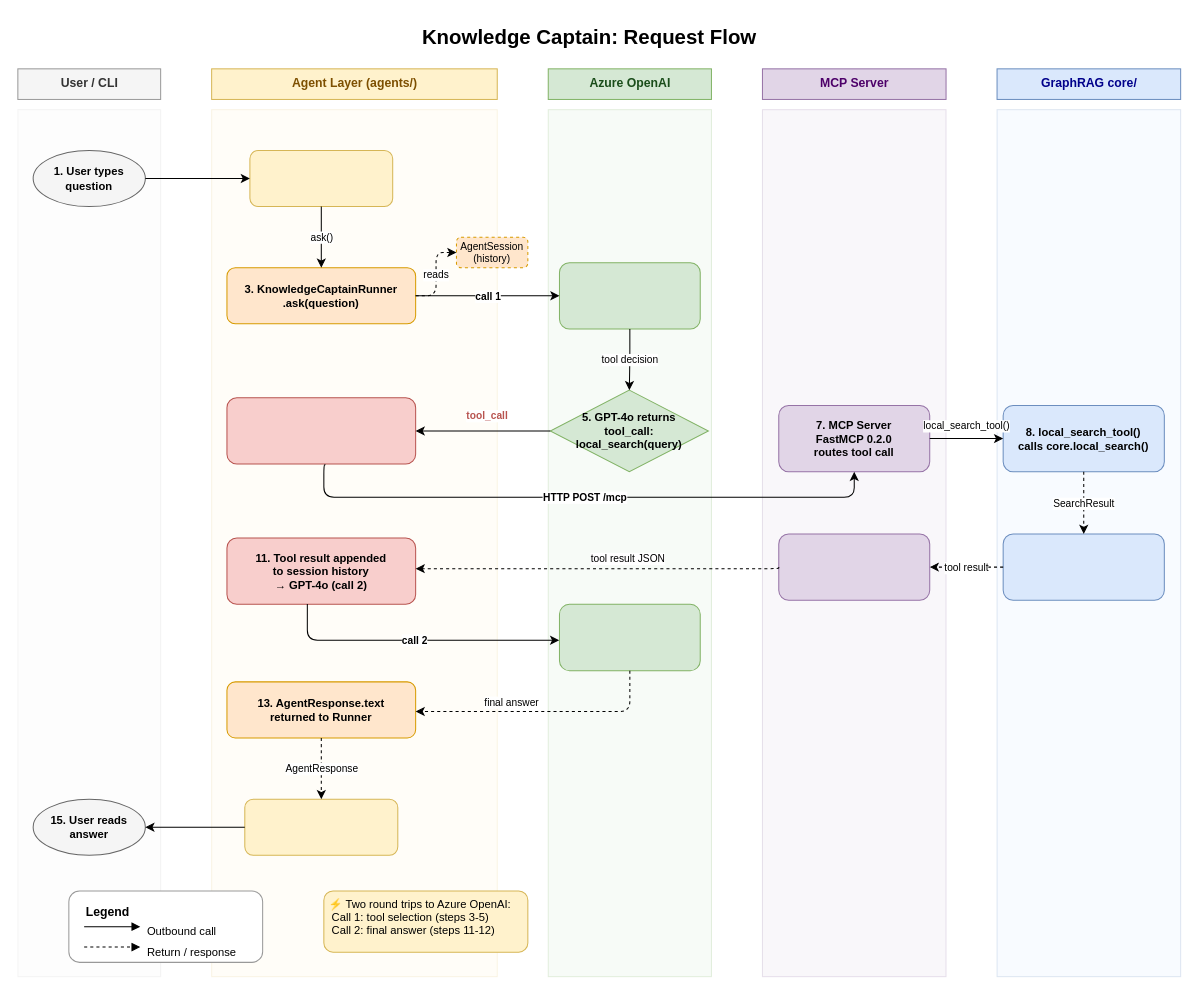
This 1199x995 diagram has some shape labels left out. The shapes that lost their labels are listed below. From the top down, each one's centre as x and y in pixels, then its label:
At (x=321, y=178): "2. run_agent.py CLI (Rich)".
At (x=629, y=295): "4. [system prompt + history + question] → GPT-4o (call 1)".
At (x=321, y=430): "6. MCPStreamableHTTPTool JSON-RPC POST → /mcp (port 8011)".
At (x=854, y=566): "10. Tool result JSON returned to agent".
At (x=1083, y=566): "9. GraphRAG returns SearchResult {answer, context, sources}".
At (x=629, y=637): "12. GPT-4o composes natural language answer".
At (x=321, y=826): "14. CLI displays Rich-formatted answer".
